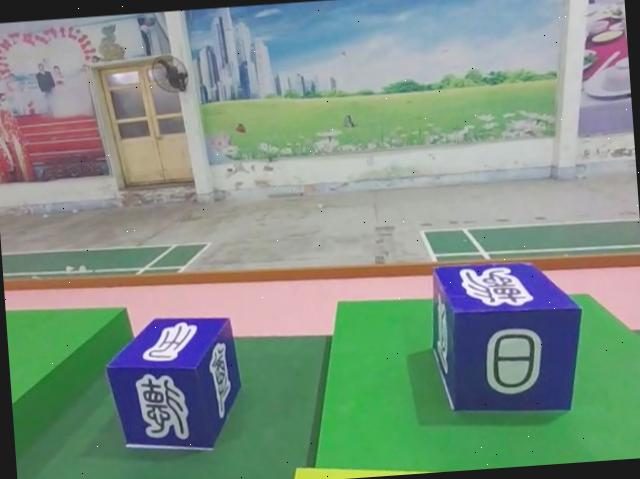R2 Fake Blue: (427, 258, 587, 418), (101, 312, 244, 457)
